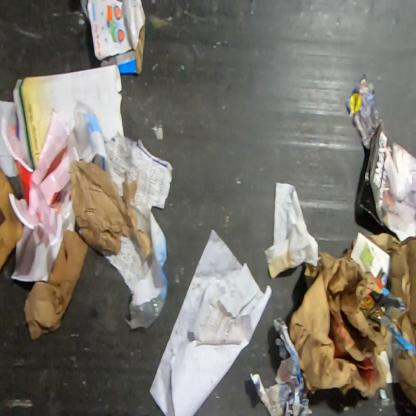cardboard: (22, 229, 90, 342), (86, 0, 147, 76), (0, 166, 24, 273)
rigid_plastic: (0, 107, 80, 248)
soft_plastic: (124, 294, 167, 330)
